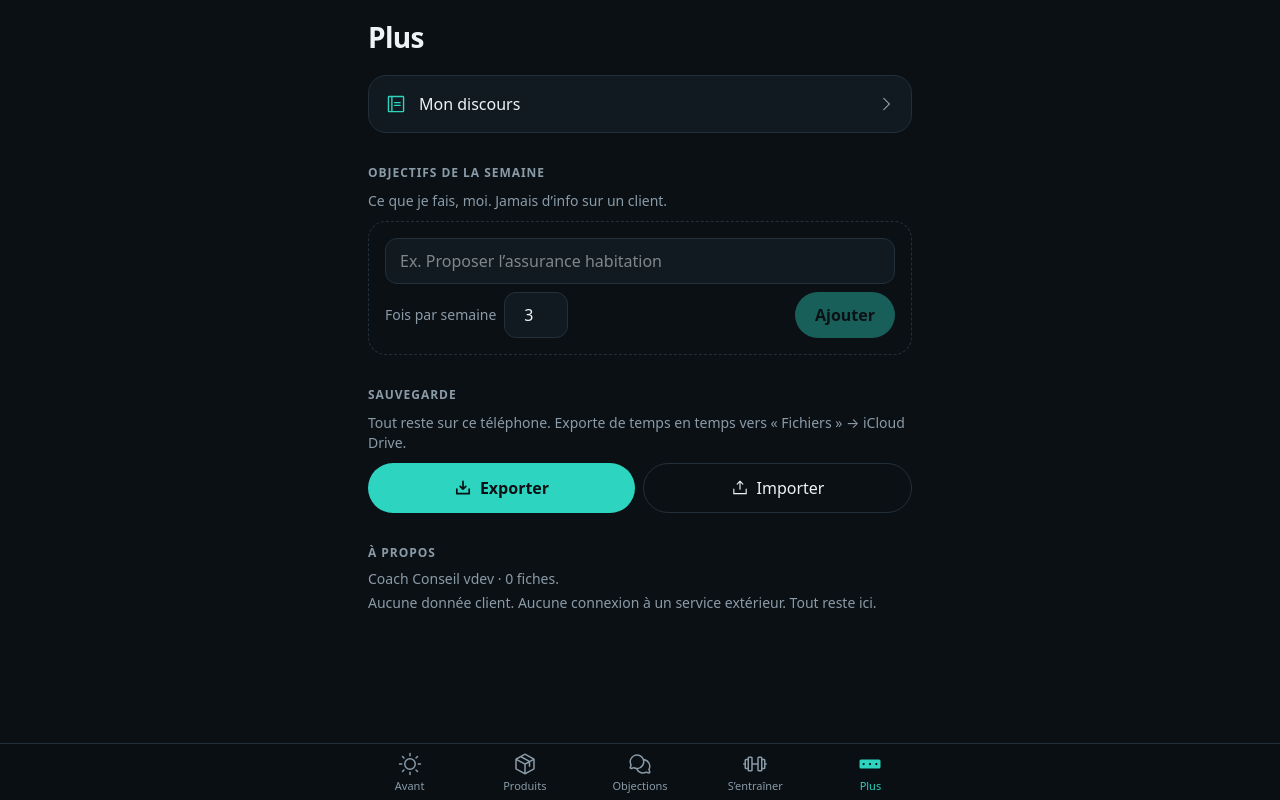
Test: Plus › crée un objectif hebdomadaire et compte les actions
This screenshot has width=1280, height=800.
Type "Proposer l’assurance" into the field named "Nouvel objectif".
click(640, 261); type("Proposer l’assurance")  # box [385,238,895,284]
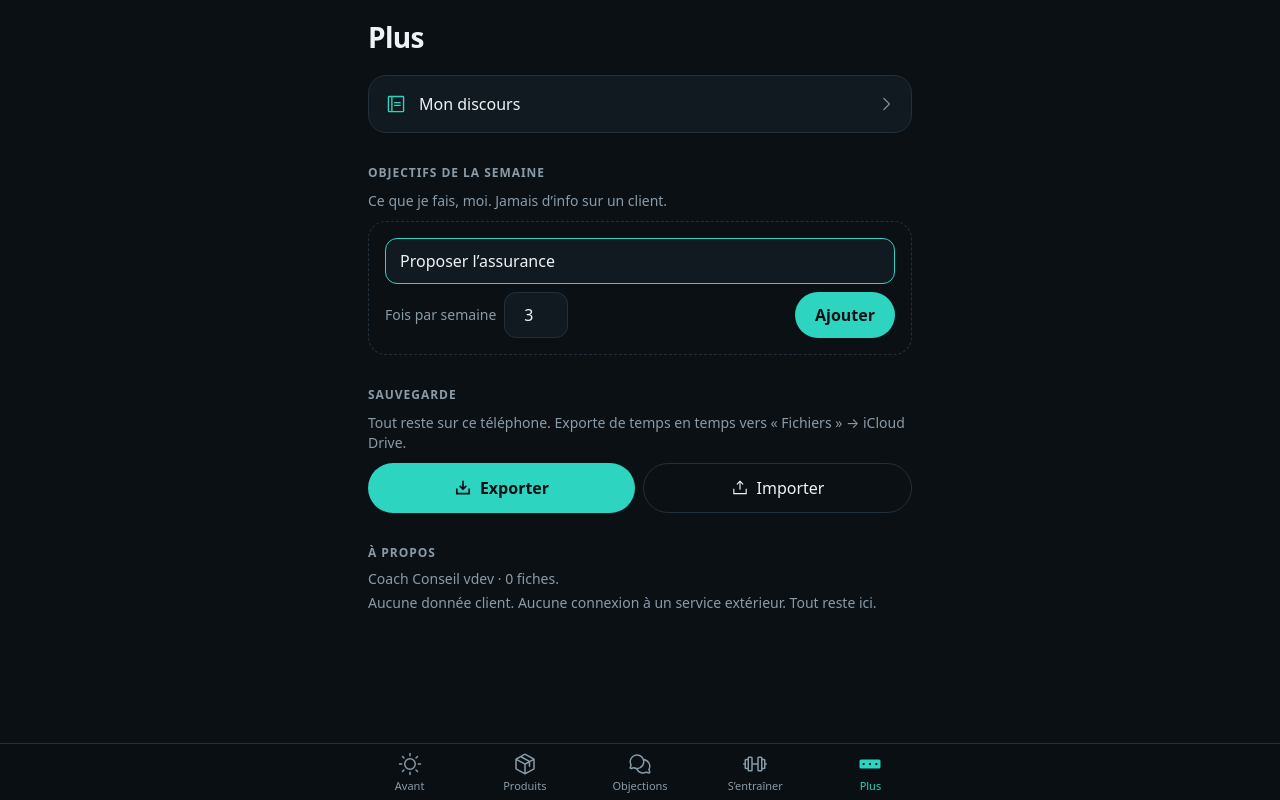
Click the button "Ajouter".
click(845, 315)  # box [795,292,895,338]
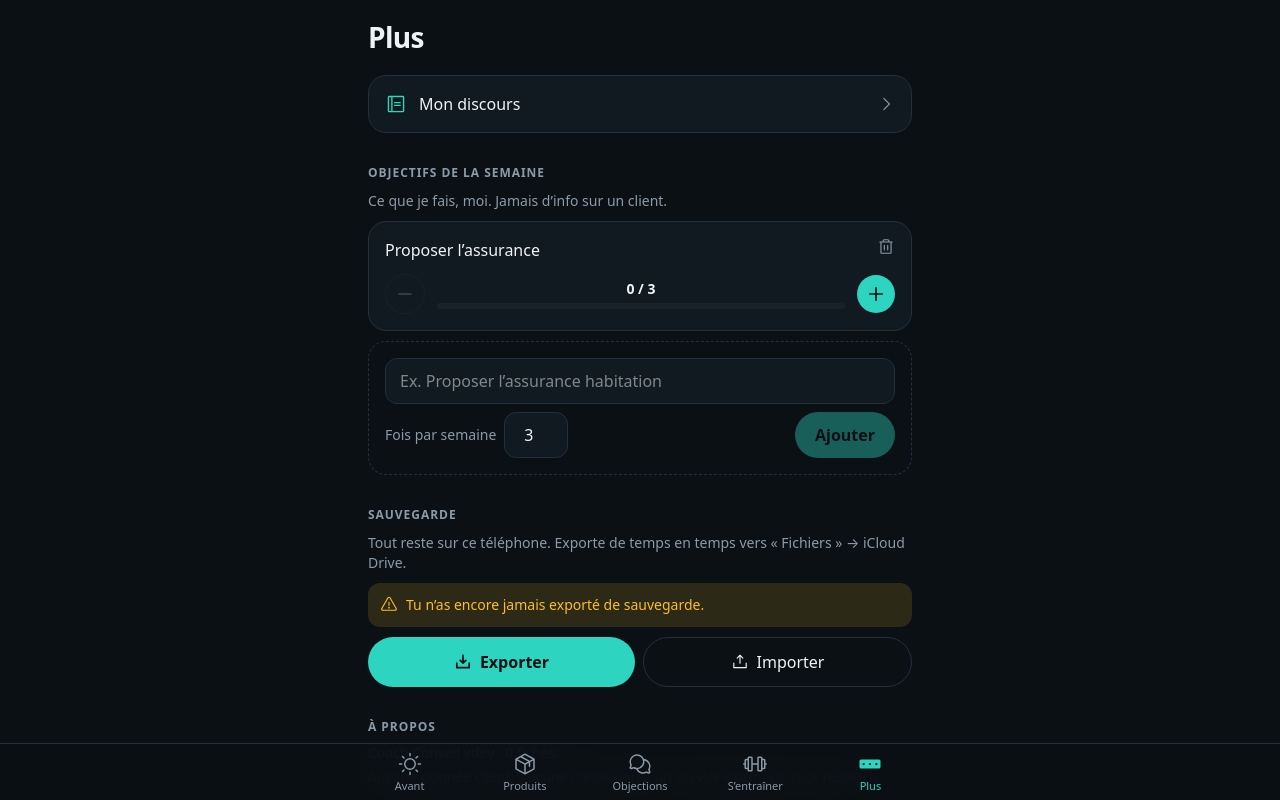
Click the button named "Ajouter 1 à Proposer l’assurance".
click(876, 294)  # box [857,275,895,313]
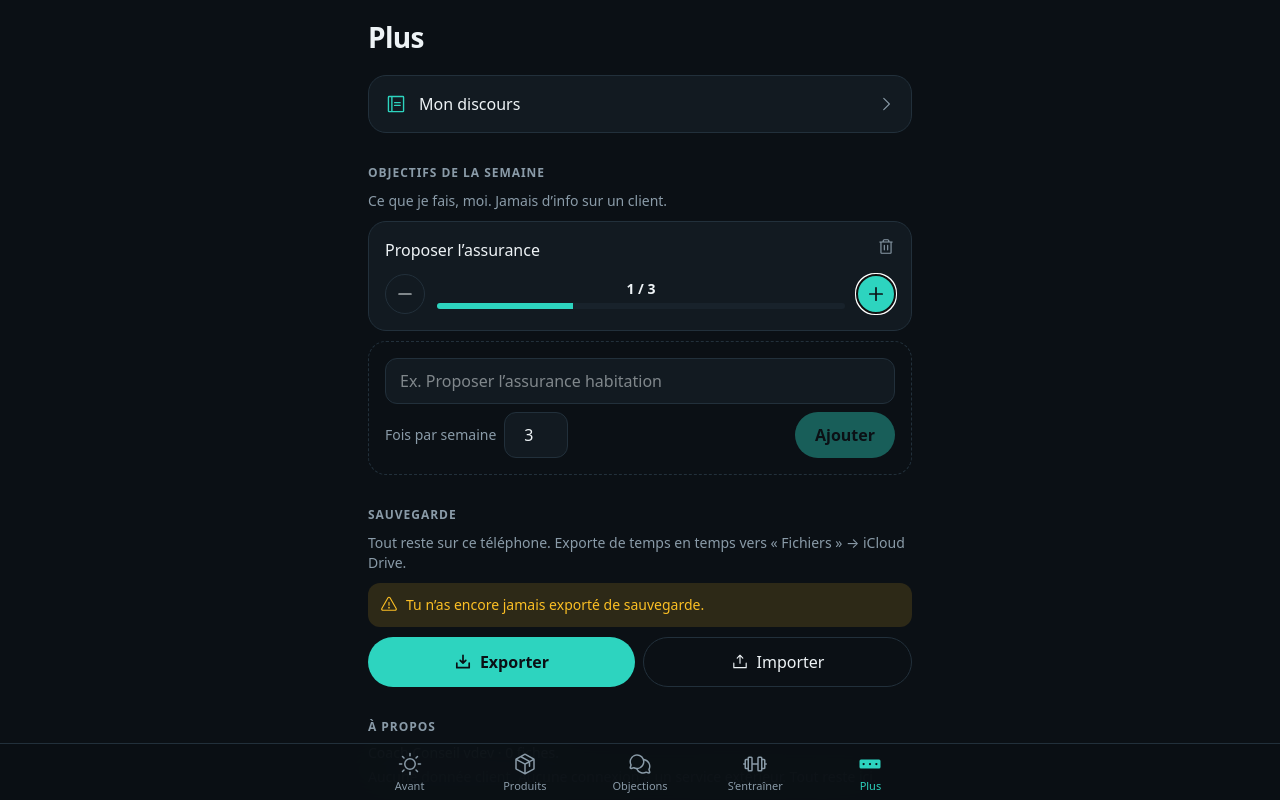
Click the button named "Ajouter 1 à Proposer l’assurance".
click(876, 294)  # box [857,275,895,313]
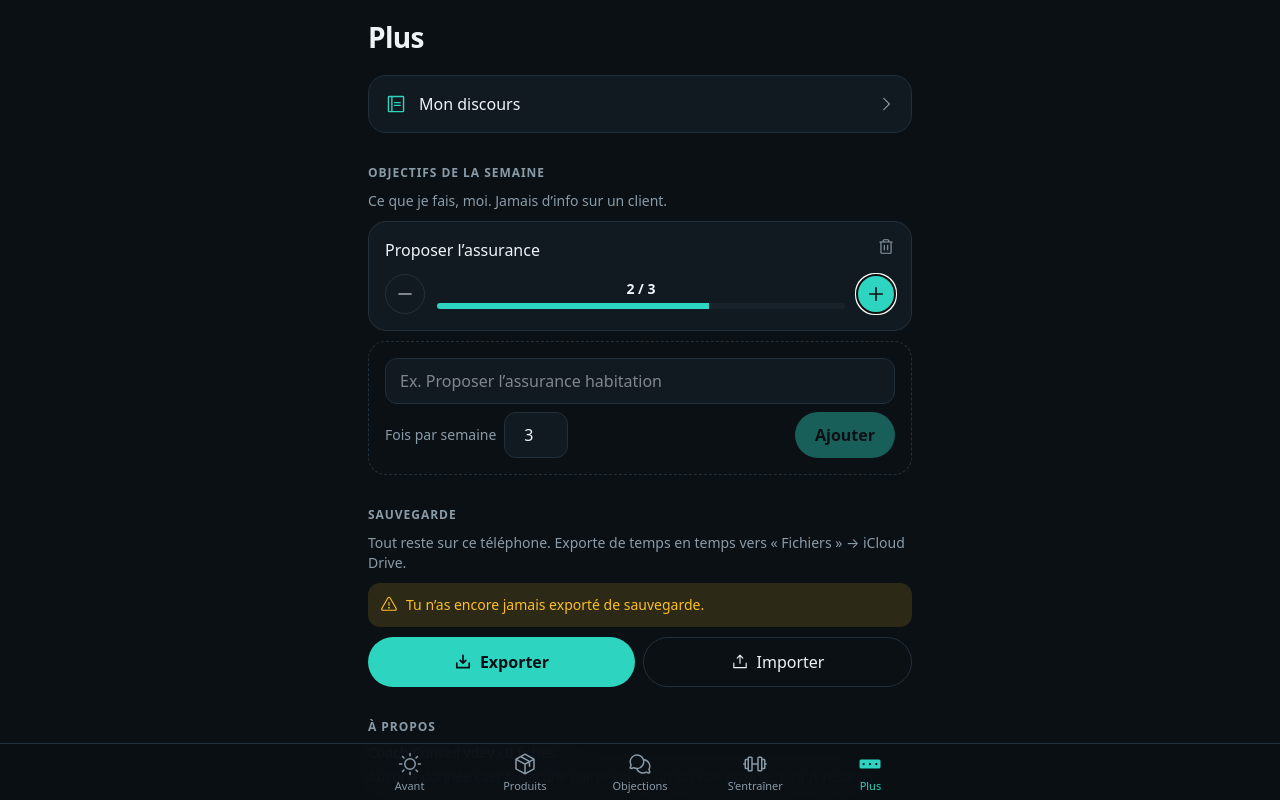
Check: the element named "Progression de Proposer l’assurance" reads "2 / 3", box [626,279,656,298]
